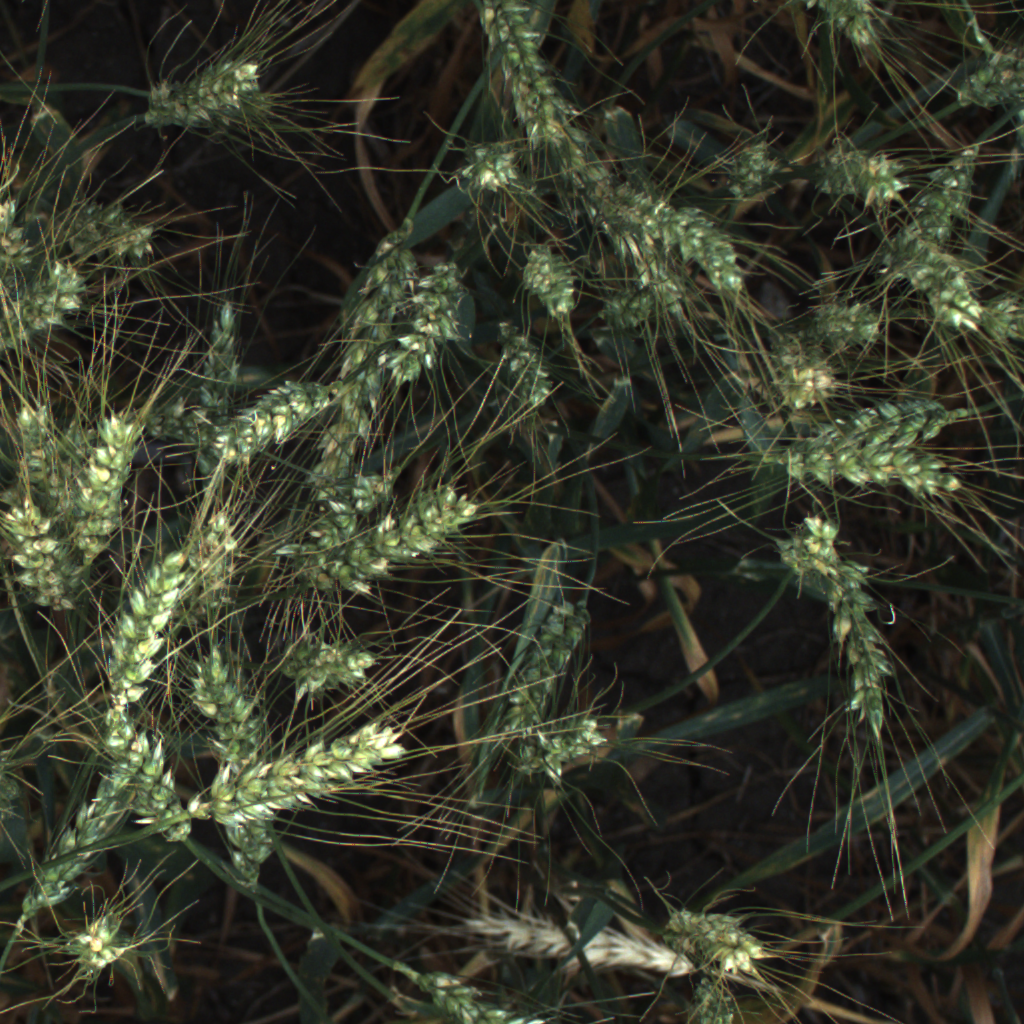wheat_head: (195, 717, 425, 860), (783, 516, 917, 737), (564, 148, 752, 297), (438, 888, 716, 982), (285, 481, 487, 610), (11, 743, 142, 938), (335, 212, 433, 451), (494, 572, 607, 763), (89, 543, 187, 735), (451, 0, 573, 151), (210, 360, 353, 470), (887, 135, 996, 275), (653, 889, 786, 1002), (602, 211, 717, 330), (68, 398, 144, 573), (286, 455, 406, 564), (380, 251, 471, 391), (134, 46, 273, 135), (3, 383, 91, 522), (106, 725, 193, 856), (892, 241, 989, 355), (794, 443, 973, 504), (806, 394, 967, 459), (926, 16, 1019, 126), (276, 616, 386, 709), (198, 301, 248, 505), (0, 496, 80, 613), (751, 0, 908, 59), (188, 626, 260, 754), (1, 258, 92, 357), (521, 704, 626, 789), (801, 138, 914, 214), (413, 971, 573, 1024), (486, 319, 560, 417), (762, 337, 845, 424), (50, 906, 140, 985), (508, 243, 584, 334), (803, 289, 884, 361), (196, 506, 245, 615), (727, 138, 789, 209), (456, 136, 519, 200), (102, 214, 163, 265), (146, 398, 214, 443), (984, 288, 1023, 358), (0, 190, 35, 267)
